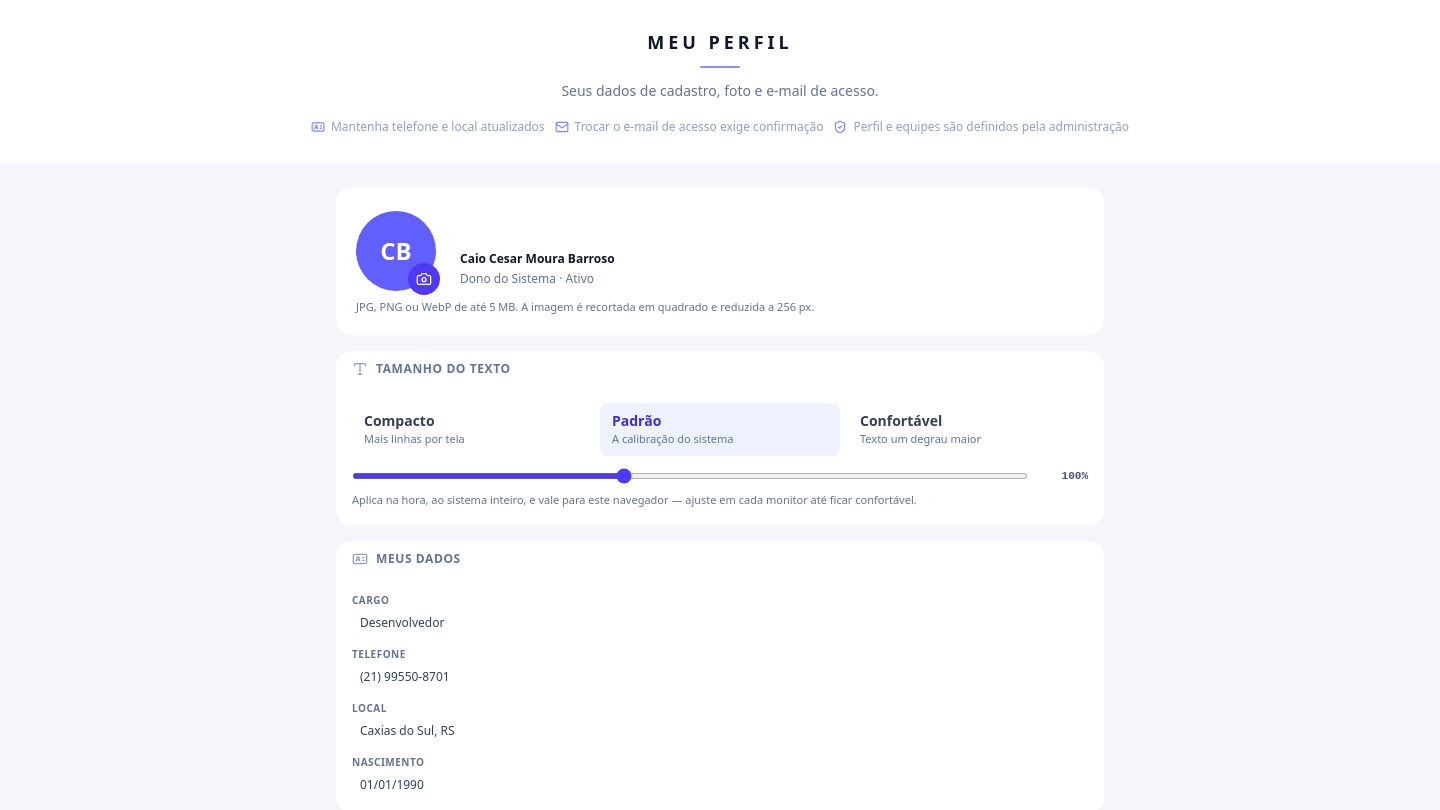
o tamanho do texto › a régua encontra o ponto que os atalhos não têm
Set the slider named "ajuste fino" to "104": (730, 476) [352,473,1028,479]
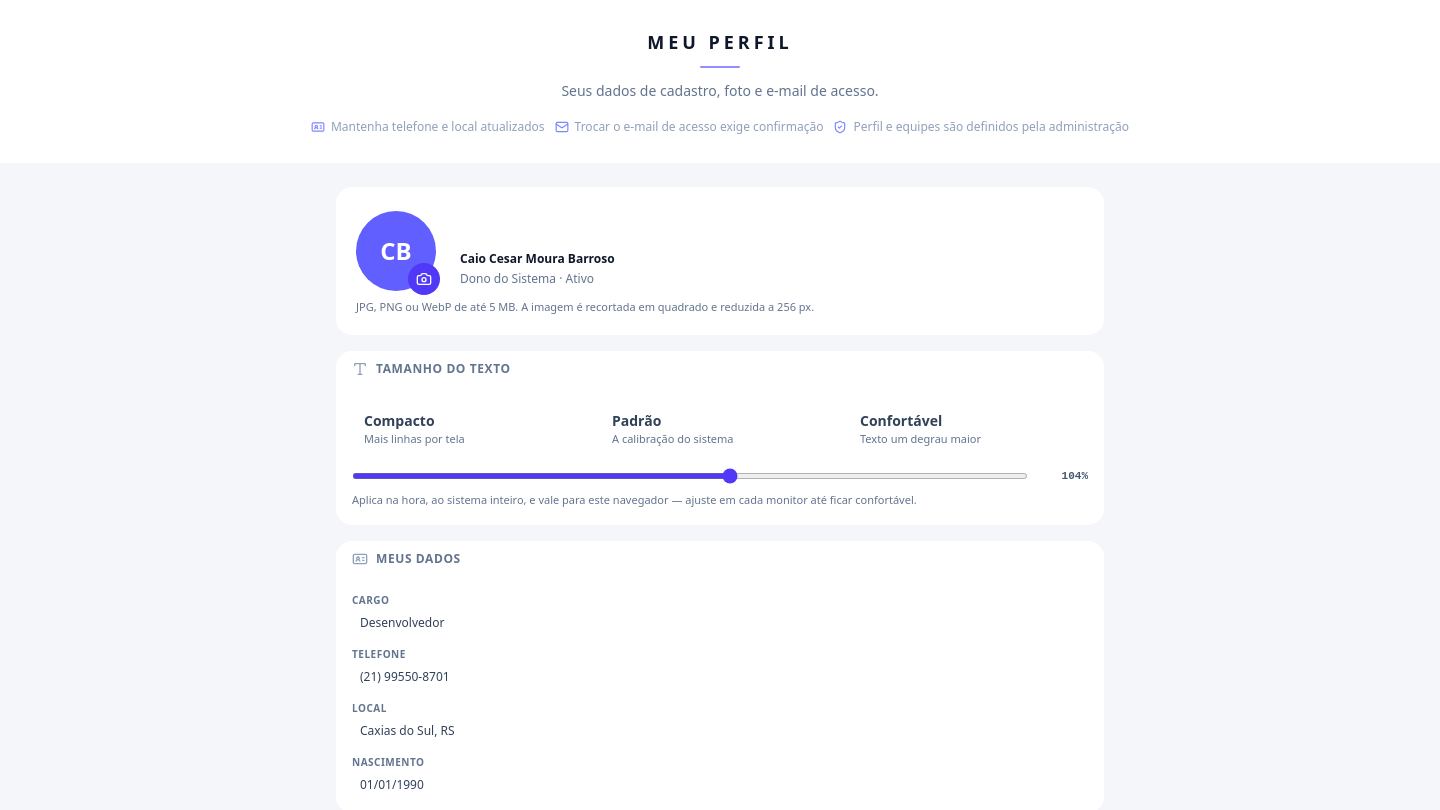
Now the text "104%" is shown, box [1062,470,1088,482]
